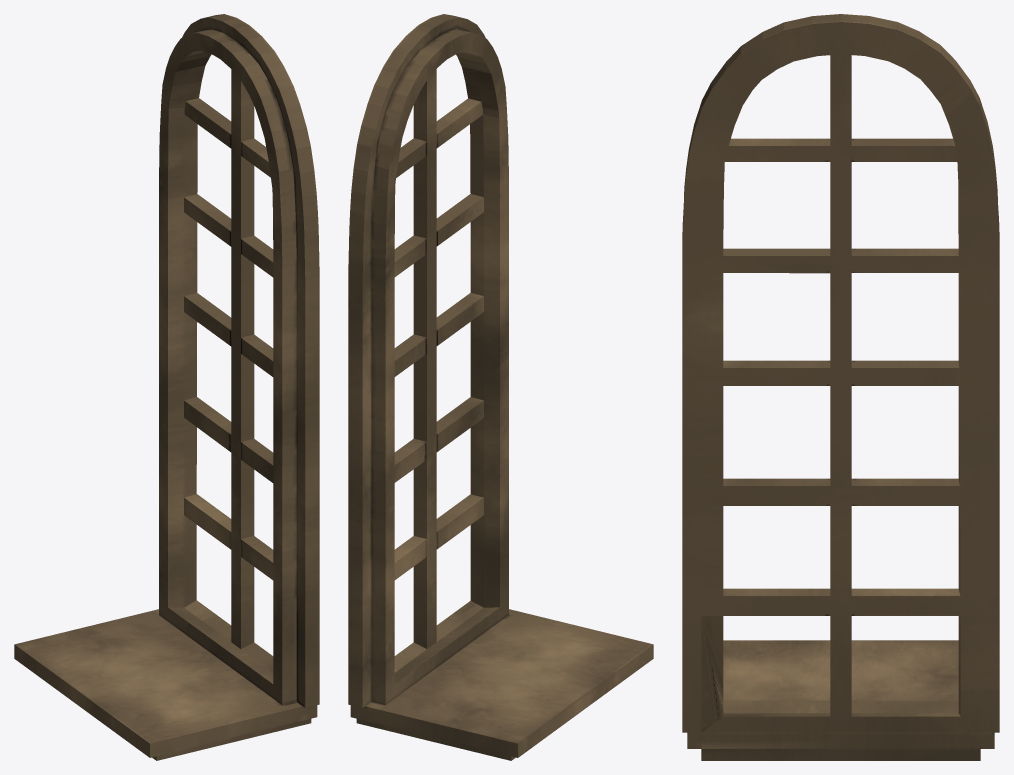
Rendered from Fensterbogen.fbx.
3 views of the same model, side by side, from view 1: azimuth 30°, elevation 25°; view 2: azimuth 150°, elevation 25°; view 3: azimuth 270°, elevation 25° (orthographic). The views are drawn at different scales.
Visible parts, largest first — view 1: Alle_Fenster; view 2: Alle_Fenster; view 3: Alle_Fenster.
Part boxes in pixels (x1=…): Alle_Fenster: x1=14, y1=14, x2=319, y2=760; Alle_Fenster: x1=348, y1=14, x2=653, y2=760; Alle_Fenster: x1=682, y1=14, x2=999, y2=760.
Bounding box in the file's own units: 737 × 1892 × 508.
